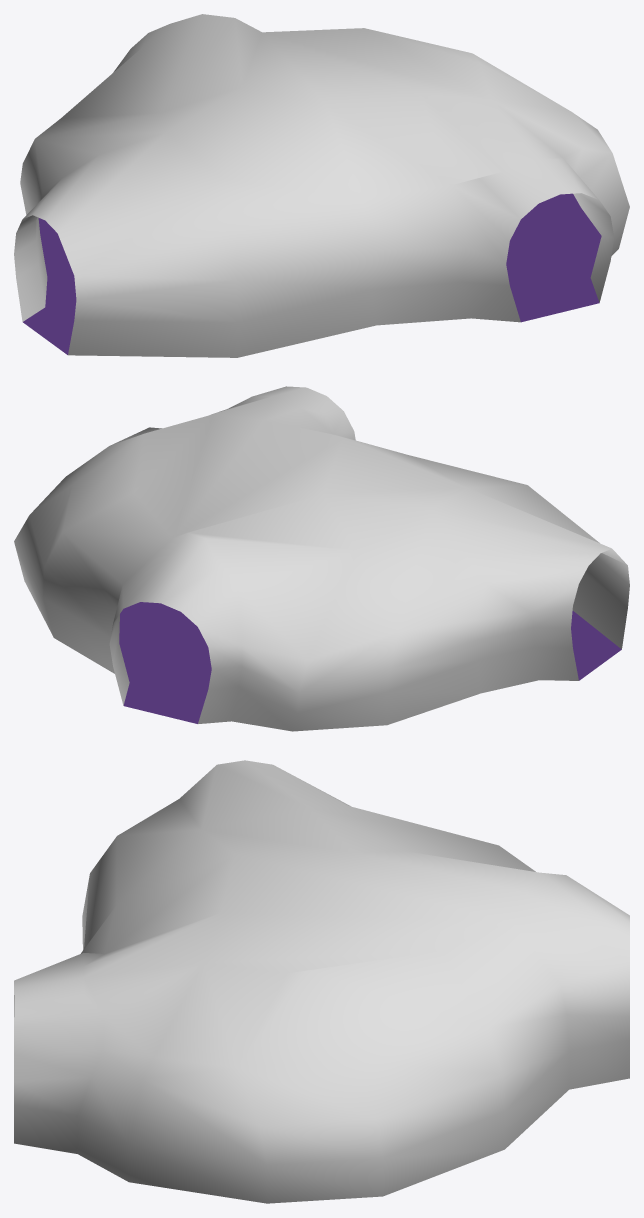
The model's file is cave_room3exits.fbx.
The picture shows the model from 3 angles, top to bottom: view 1: azimuth 30°, elevation 25°; view 2: azimuth 150°, elevation 25°; view 3: azimuth 270°, elevation 25°; orthographic projection. The views are drawn at different scales.
Visible parts, largest first — view 1: cave_3exits; view 2: cave_3exits; view 3: cave_3exits.
Part boxes in pixels (box(x1,y1,x2,y2)): cave_3exits: box(14, 14, 629, 357); cave_3exits: box(14, 386, 629, 731); cave_3exits: box(14, 760, 629, 1203).
Bounding box in the file's own units: 970 × 276 × 800.
